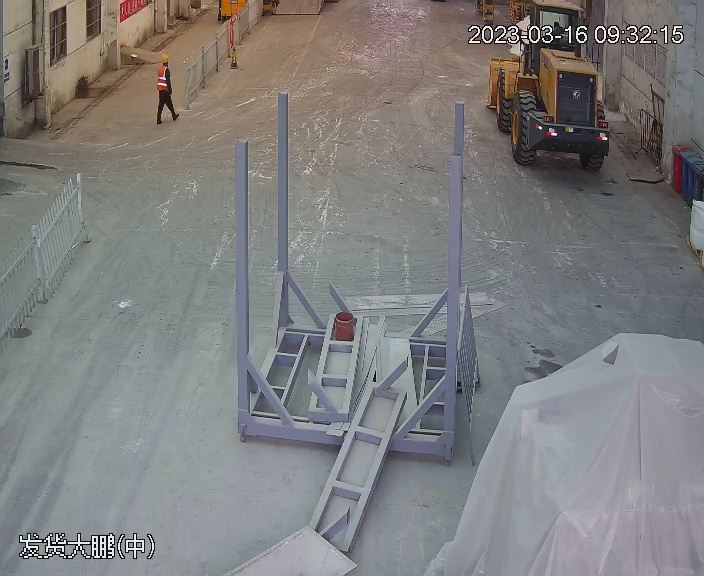head: (155, 54, 172, 77)
helmet: (159, 53, 169, 62)
people: (152, 52, 182, 125)
